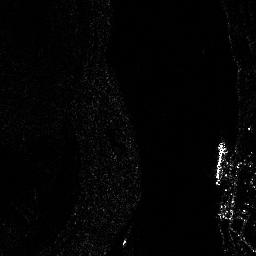ship: (211, 141, 229, 186)
